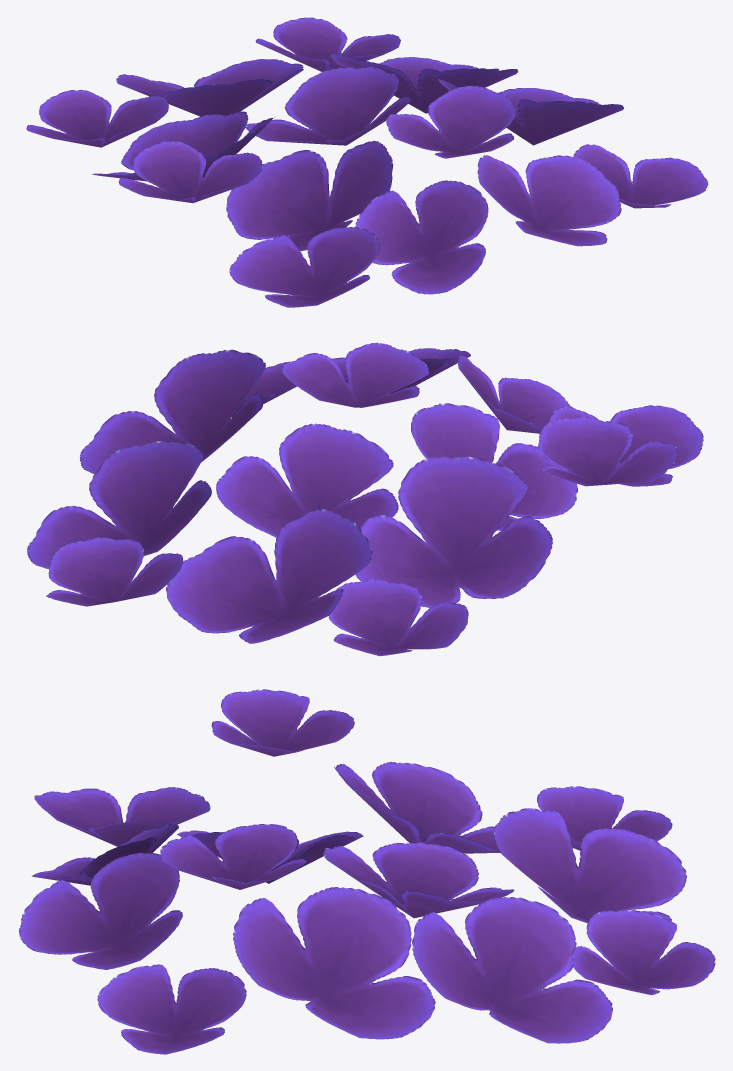
File: Plant_7_Big.gltf
The picture shows the model from 3 angles, top to bottom: view 1: azimuth 30°, elevation 25°; view 2: azimuth 150°, elevation 25°; view 3: azimuth 270°, elevation 25°; orthographic projection. The views are drawn at different scales.
Visible parts, largest first — view 1: Plant_7_Big; view 2: Plant_7_Big; view 3: Plant_7_Big.
Boxes of the visible parts, x1,y1,x2,y2 form: Plant_7_Big: (26,17,708,307); Plant_7_Big: (27,342,703,656); Plant_7_Big: (18,689,715,1054).
Bounding box in the file's own units: 1.31 × 0.2534 × 1.36.
Materials: 1 (1 with a texture image).
